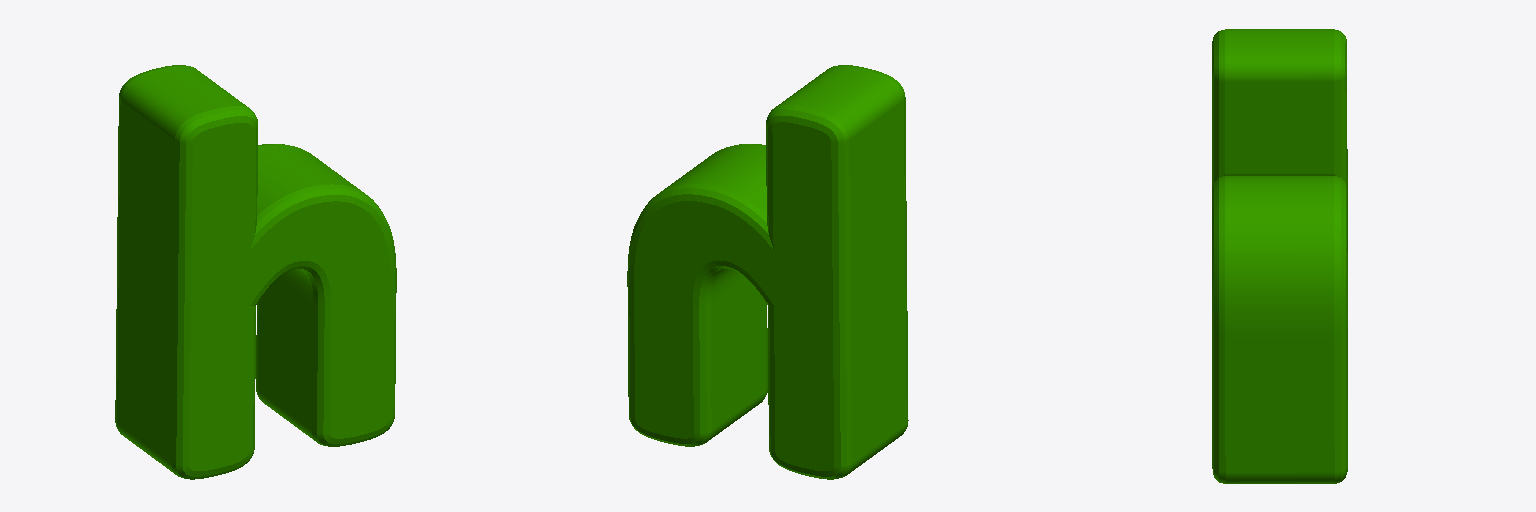
The model's file is h_of_chi.obj.
The picture shows the model from 3 angles: view 1: azimuth 30°, elevation 25°; view 2: azimuth 150°, elevation 25°; view 3: azimuth 270°, elevation 25°; orthographic projection.
Parts seen in each view (by area): view 1: Text; view 2: Text; view 3: Text.
Part boxes in pixels (bbox=[...]): Text: bbox=[115, 65, 396, 479]; Text: bbox=[627, 65, 908, 479]; Text: bbox=[1212, 29, 1347, 483].
Bounding box in the file's own units: 0.3359 × 0.5282 × 0.1769.